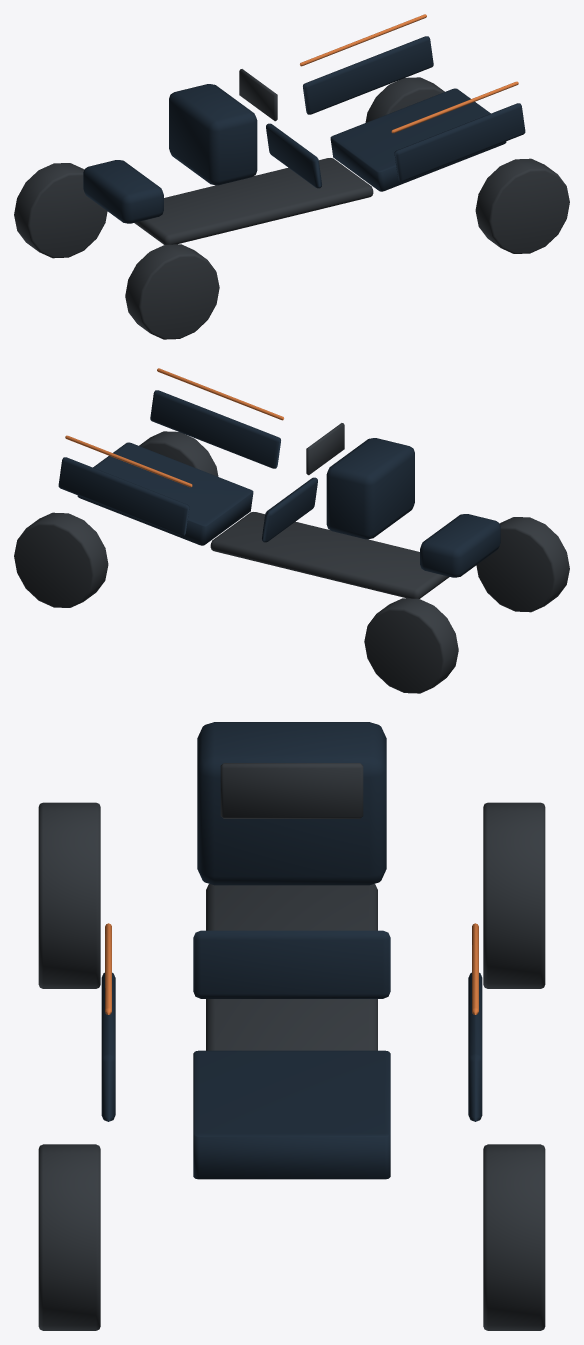
The model's file is truck_v1.glb.
3 renders of one model, top to bottom at view 1: azimuth 30°, elevation 25°; view 2: azimuth 150°, elevation 25°; view 3: azimuth 270°, elevation 25°, orthographic. The views are drawn at different scales.
Visible parts, largest first — view 1: HerosTruckMark; view 2: HerosTruckMark; view 3: HerosTruckMark.
Part boxes in pixels (x1,y1,x2,y2): HerosTruckMark: [14, 14, 569, 339]; HerosTruckMark: [14, 368, 569, 693]; HerosTruckMark: [38, 722, 545, 1330].
Size of the model in its own units: 2.54 by 1 by 1.29.
